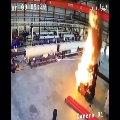fire: (75, 11, 98, 90)
